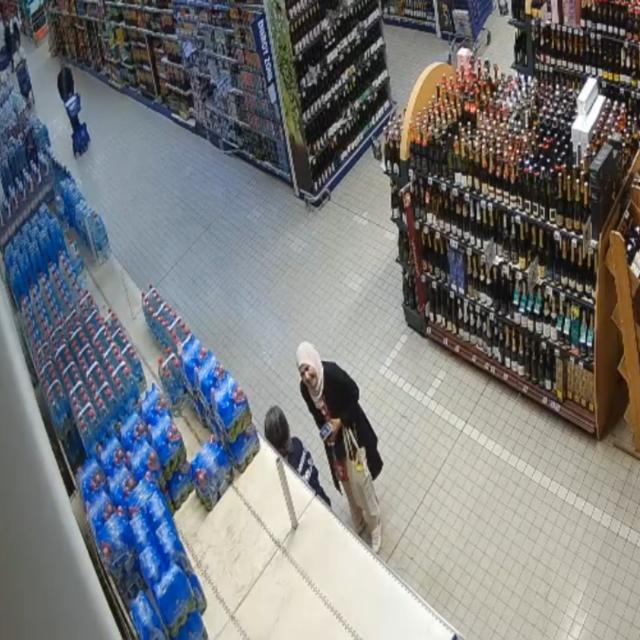bags: (343, 428, 380, 517)
hands: (327, 418, 342, 443)
person: (297, 342, 382, 552), (265, 406, 331, 506), (57, 64, 74, 104)
